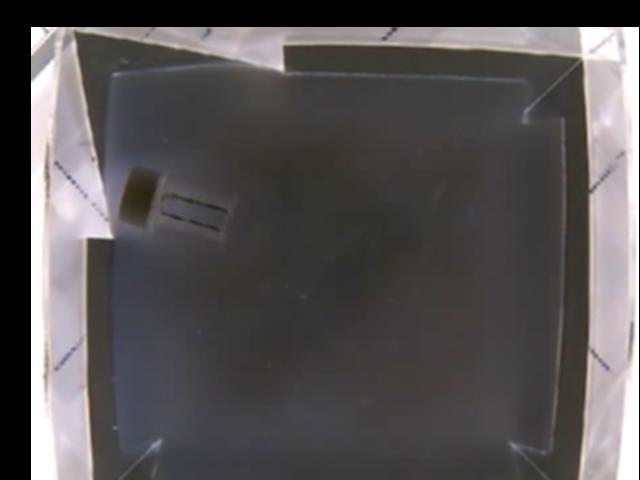Bottle: (112, 166, 235, 249)
